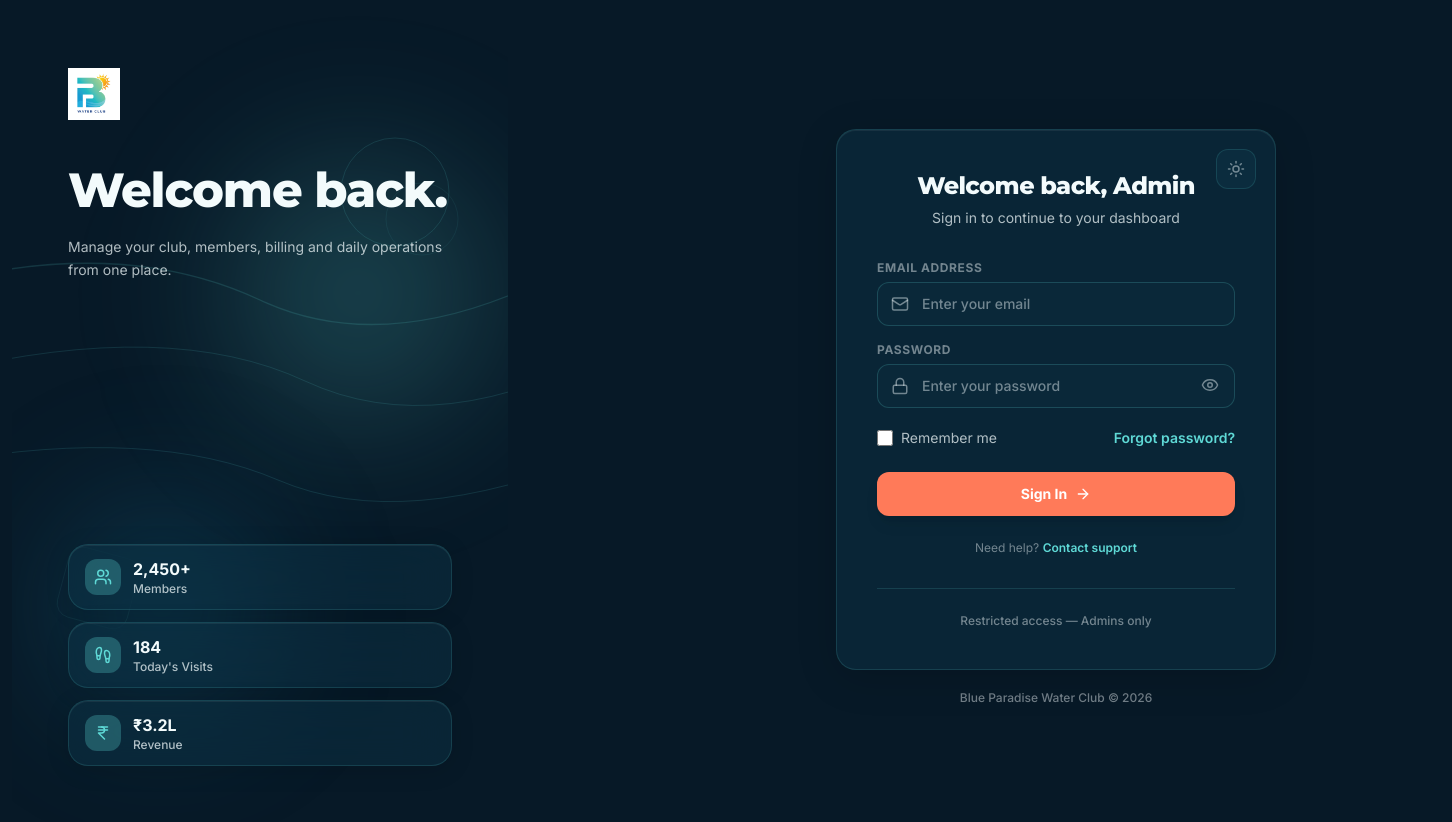
Test case: LoginPage › shows validation errors when submitting empty required fields
Click the button "Sign In". click: (1056, 494)
box: [877, 472, 1235, 516]
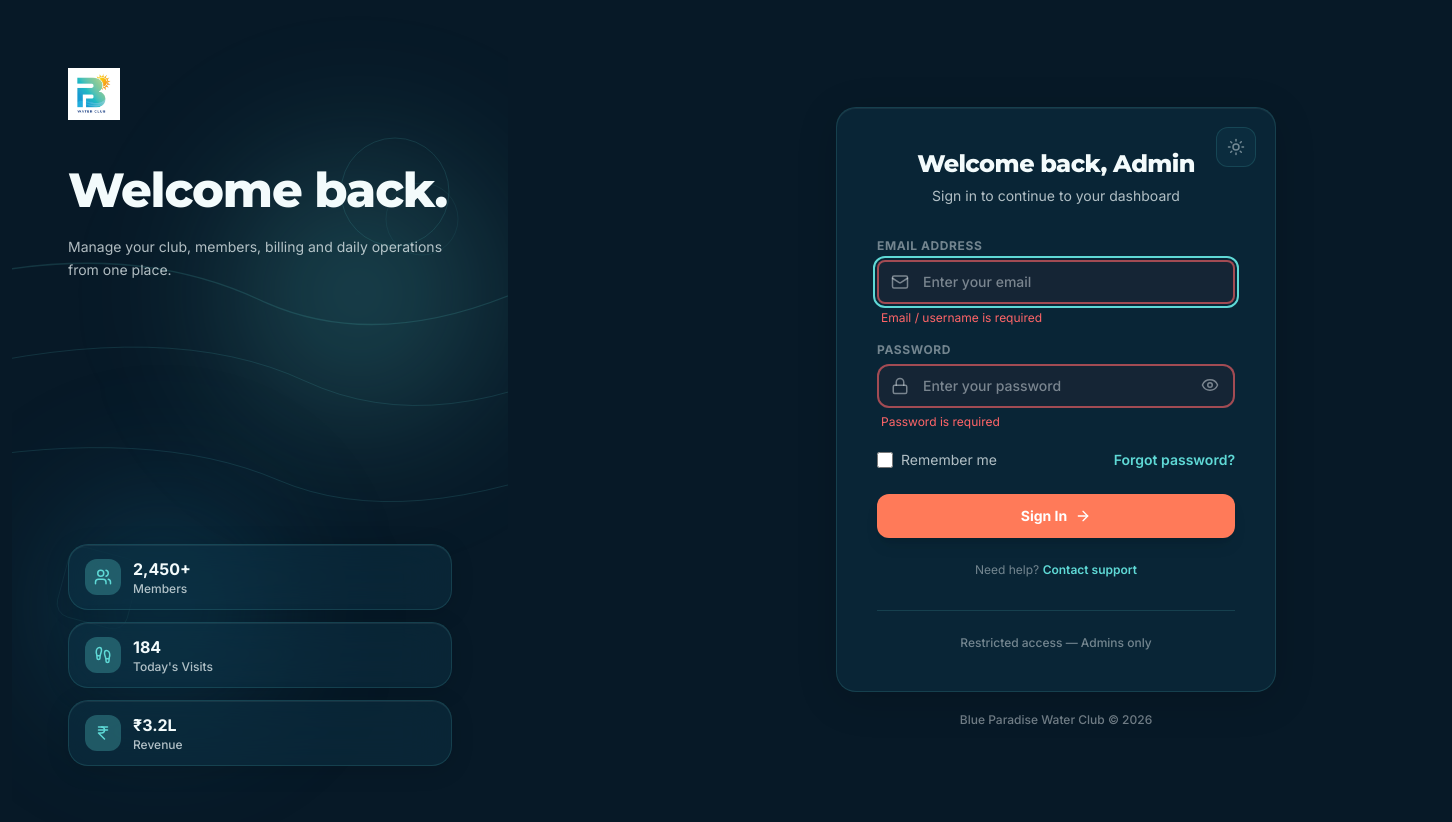
Expected: the text "Email / username is required" is shown, [881, 310, 1042, 324]
Expected: the text "Password is required" is shown, [881, 414, 1000, 428]
